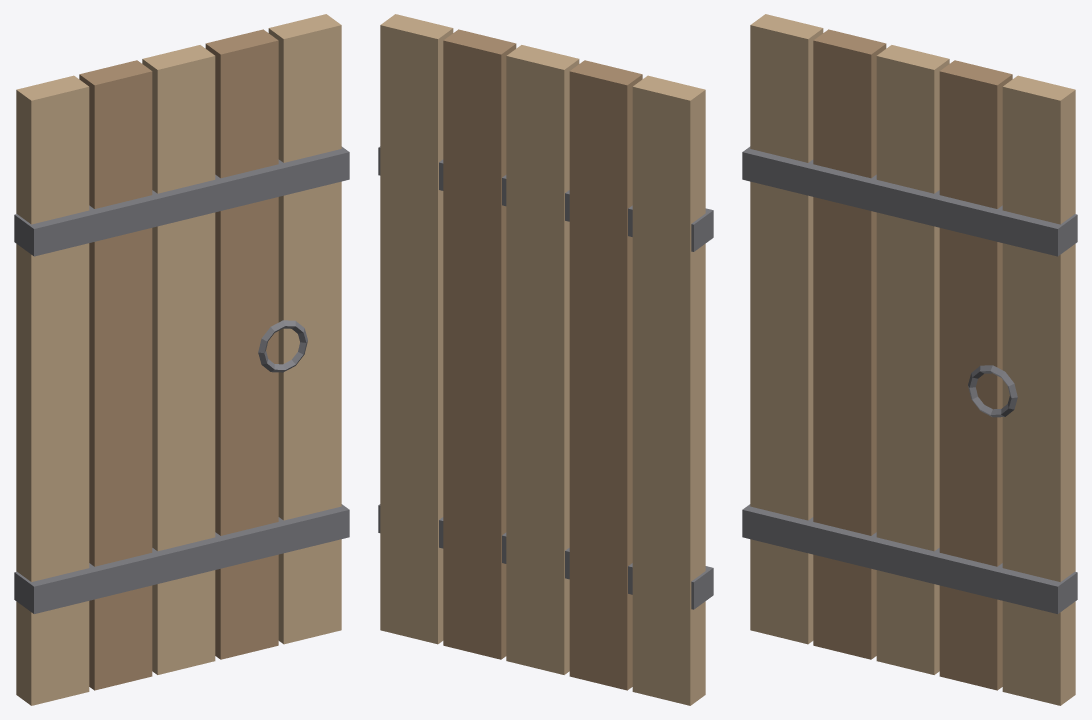
The model's file is door_wood.glb.
3 renders of one model, left to right at view 1: azimuth 30°, elevation 25°; view 2: azimuth 150°, elevation 25°; view 3: azimuth 330°, elevation 25°, orthographic.
Parts seen in each view (by area): view 1: door_wood; view 2: door_wood; view 3: door_wood.
Boxes of the visible parts, x1,y1,x2,y2 form: door_wood: [14, 14, 349, 705]; door_wood: [378, 14, 713, 705]; door_wood: [742, 14, 1077, 705].
Bounding box in the file's own units: 1.2 × 2.2 × 0.145.
